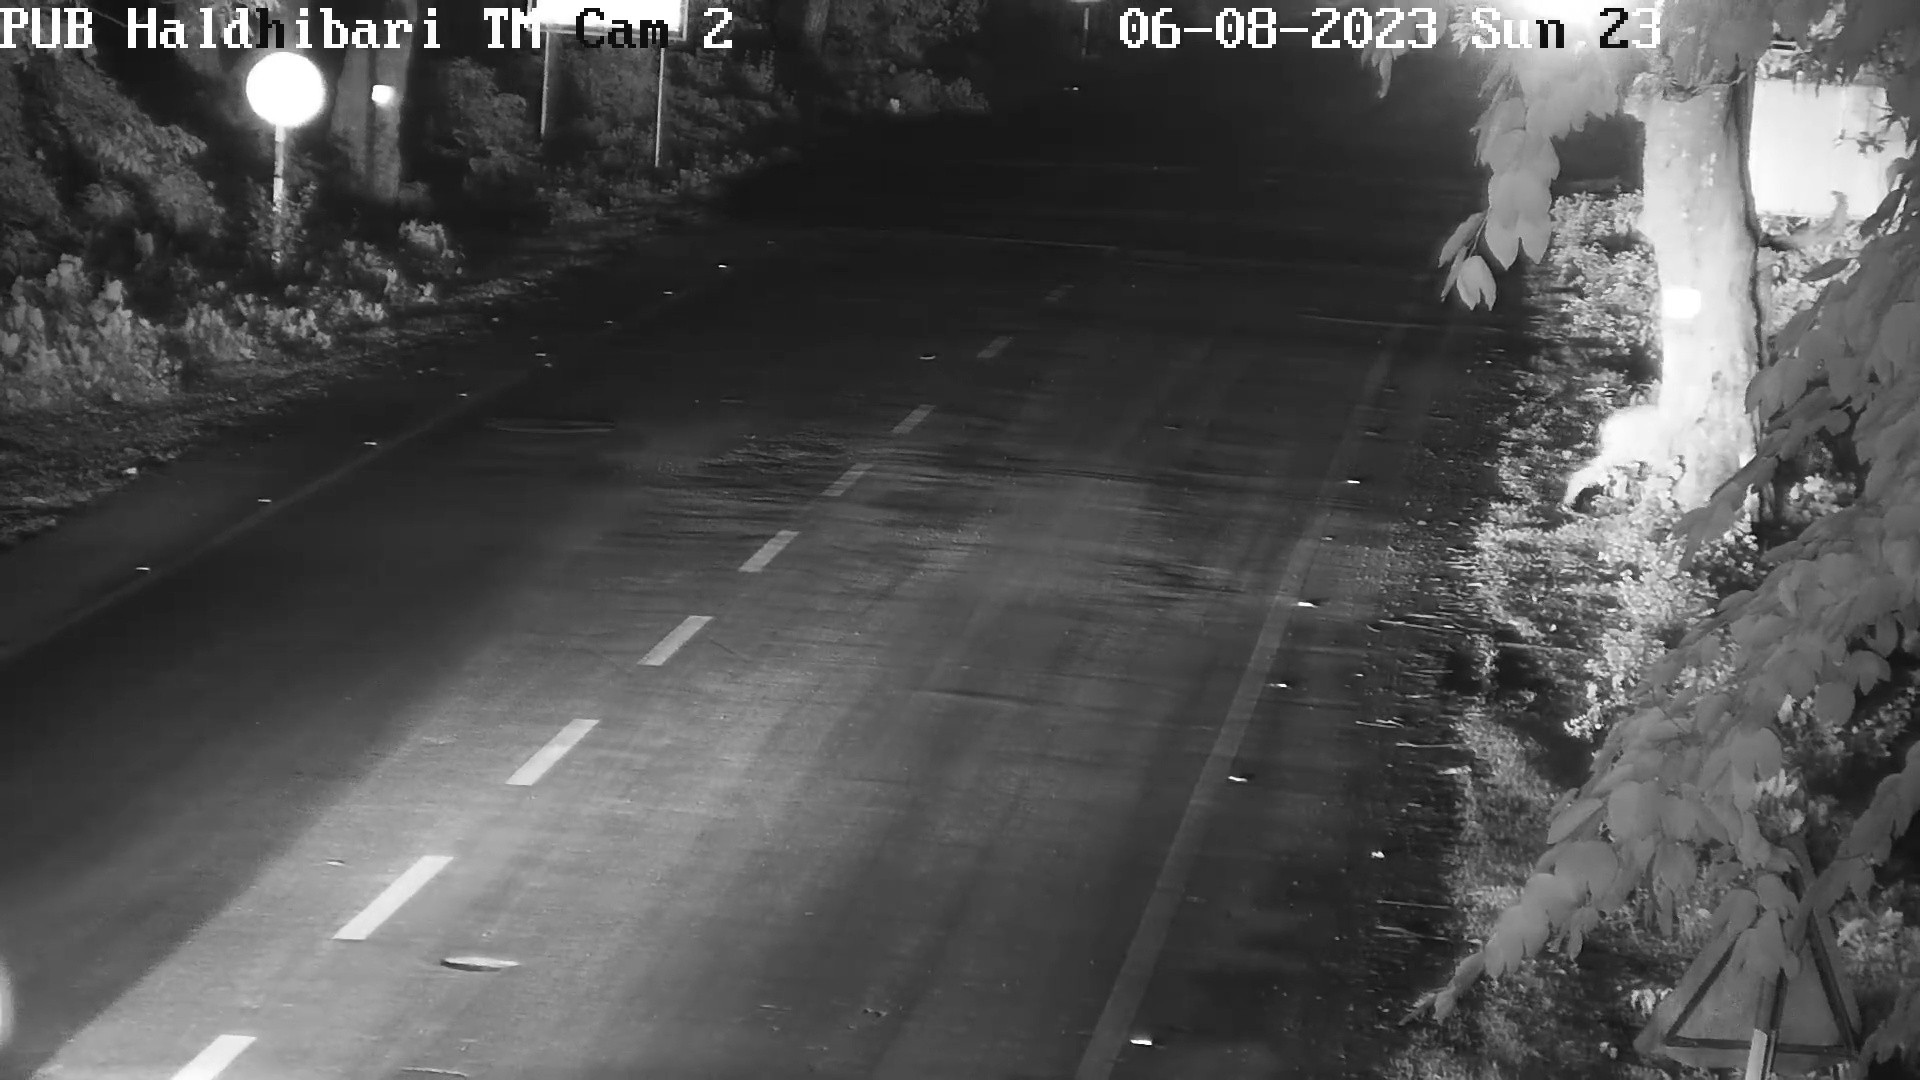tigers: (1571, 385, 1662, 498)
